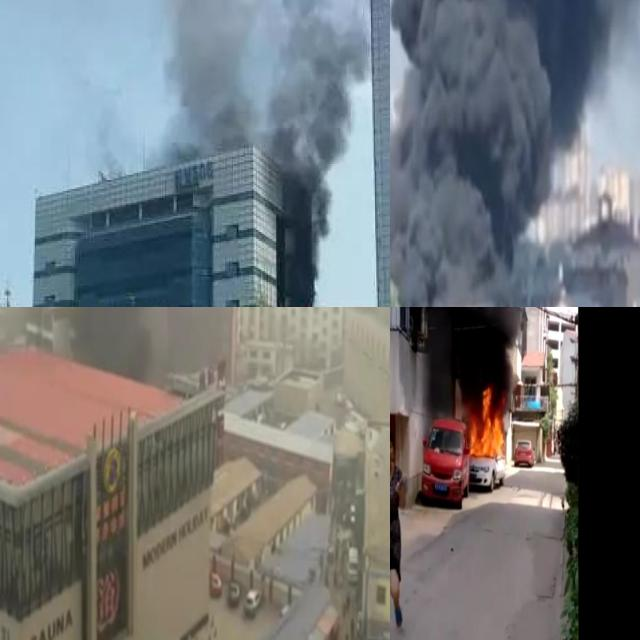fire: (468, 384, 507, 458)
smoke: (101, 0, 390, 304), (390, 0, 640, 297), (390, 307, 539, 408)
